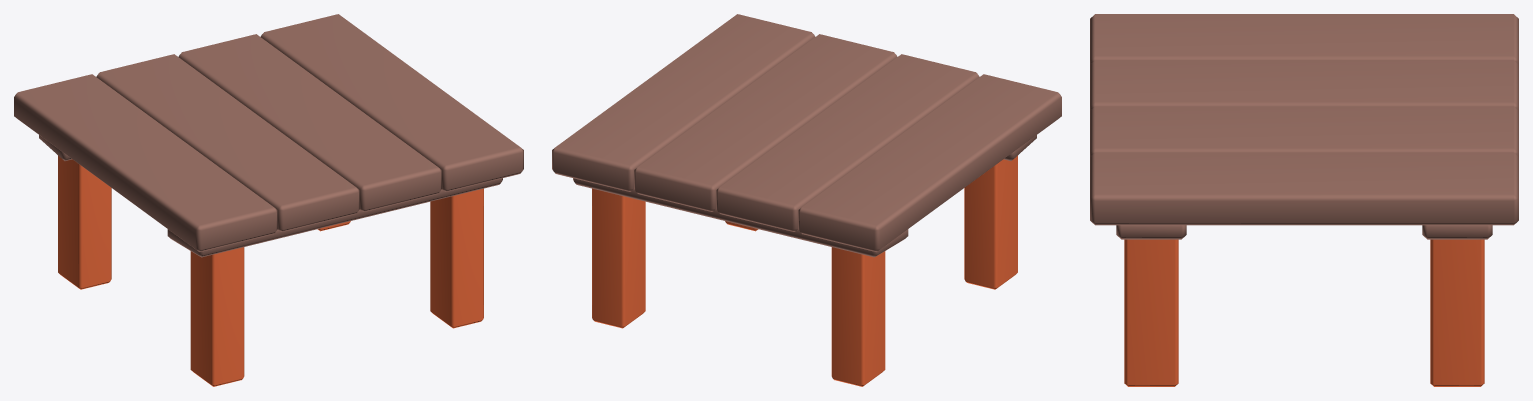
The model's file is Store_2_Table_1.glb.
3 renders of one model, left to right at view 1: azimuth 30°, elevation 25°; view 2: azimuth 150°, elevation 25°; view 3: azimuth 270°, elevation 25°, orthographic. The views are drawn at different scales.
Visible parts, largest first — view 1: Store_2_Table_1; view 2: Store_2_Table_1; view 3: Store_2_Table_1.
Boxes of the visible parts, x1,y1,x2,y2 form: Store_2_Table_1: (14, 14, 523, 386); Store_2_Table_1: (552, 14, 1061, 386); Store_2_Table_1: (1090, 14, 1518, 386).
Size of the model in its own units: 1.57 by 0.8212 by 1.55.
1 material, 1 textured.
